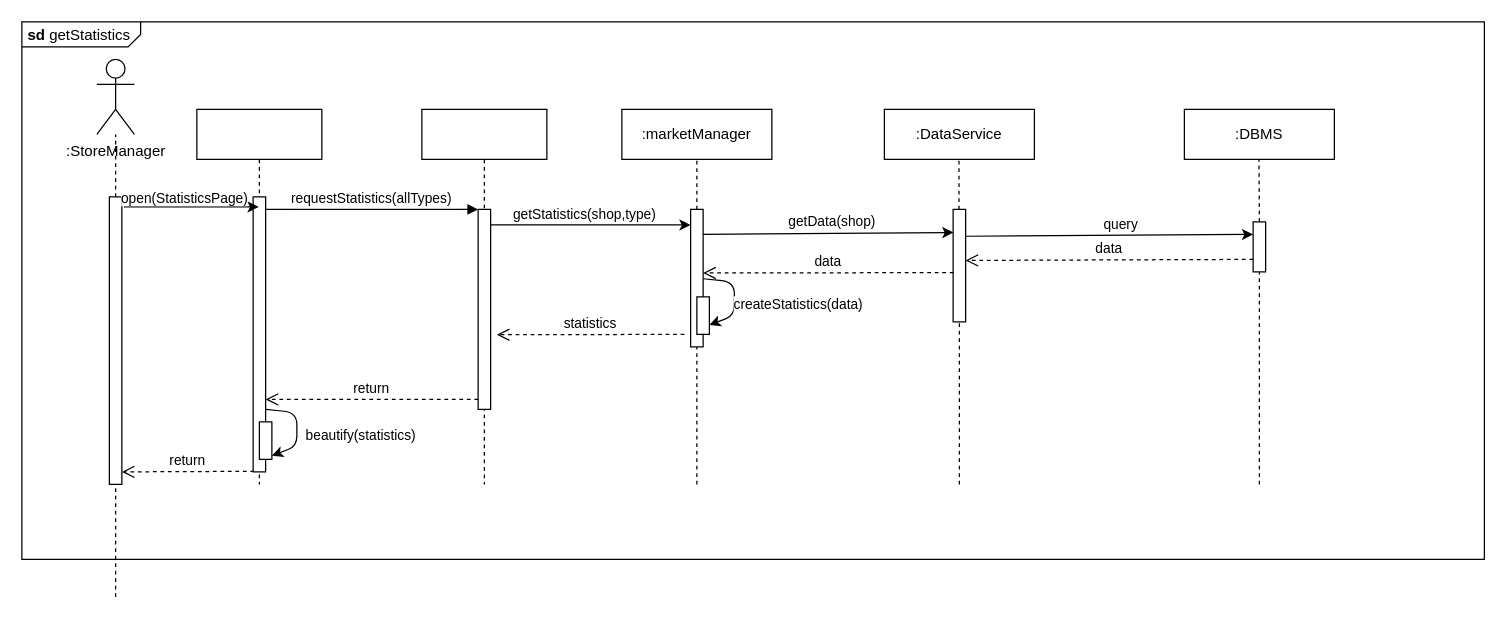
The diagram is 1506 pixels wide and 620 high, and some of its shapes have lost their labels. The shapes that lost their labels are listed below. From the top down, each one's box as (x1, y1, x2, y2) in pixels, then its label:
(196, 108, 322, 484): :webApp
(421, 108, 547, 484): :webServer
